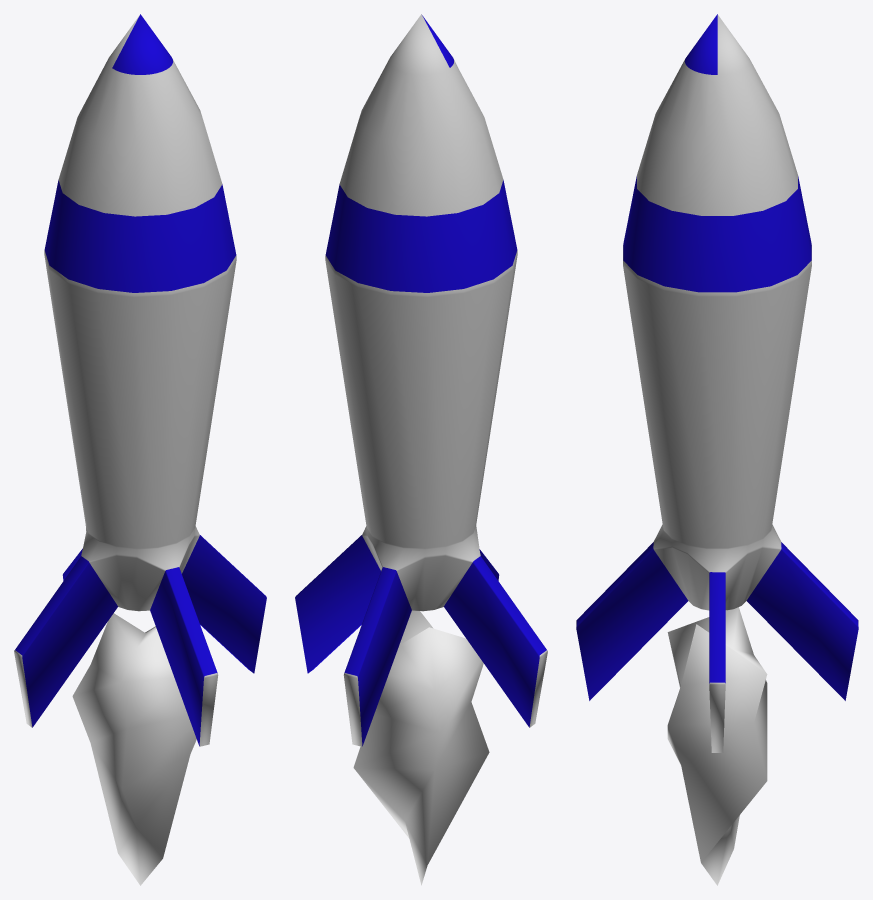
Rendered from BaddyMissile.fbx.
3 renders of one model, left to right at view 1: azimuth 30°, elevation 25°; view 2: azimuth 150°, elevation 25°; view 3: azimuth 270°, elevation 25°, orthographic.
Visible parts, largest first — view 1: Cylinder, Cube; view 2: Cylinder, Cube; view 3: Cylinder, Cube.
Boxes of the visible parts, x1,y1,x2,y2 form: Cylinder: [14, 14, 266, 746]; Cube: [72, 613, 196, 885]; Cylinder: [295, 14, 547, 746]; Cube: [353, 610, 489, 885]; Cylinder: [576, 14, 858, 752]; Cube: [667, 607, 767, 885].
Size of the model in its own units: 312 by 1061 by 312.
